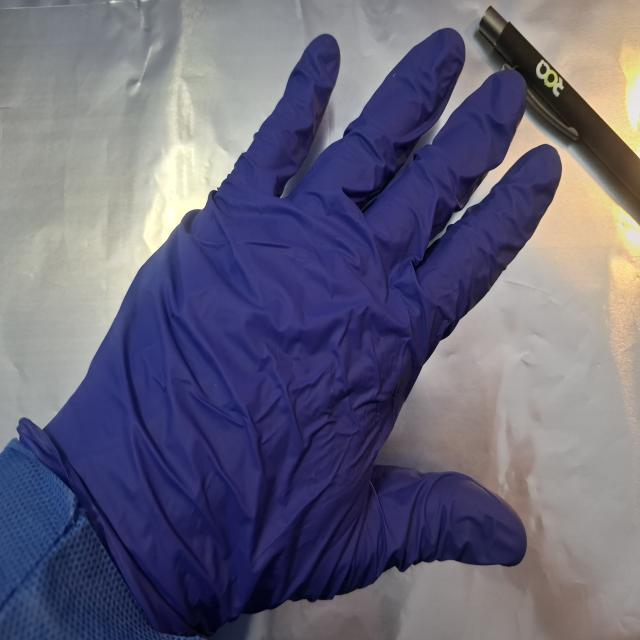glove_on: (43, 23, 564, 630)
